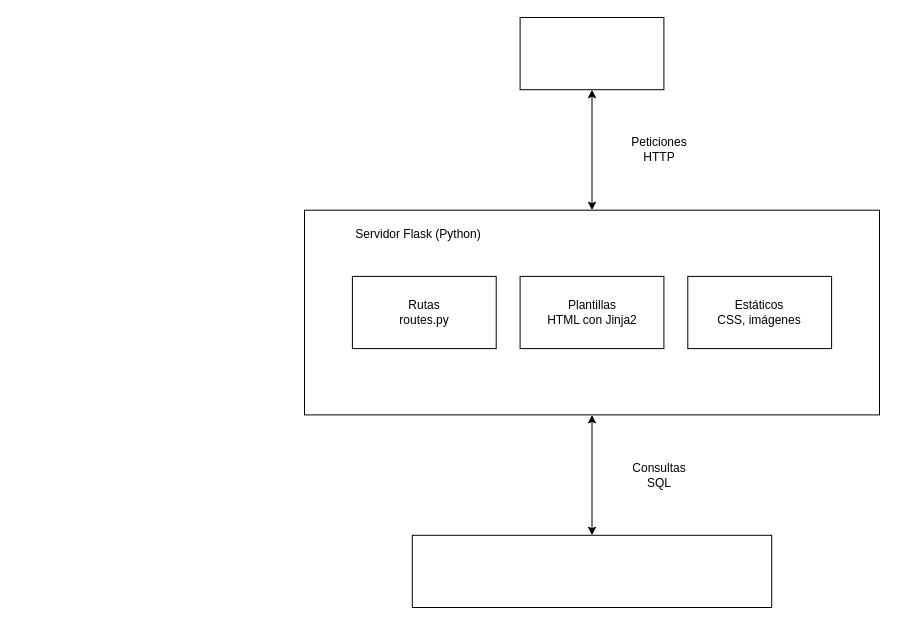
The diagram is 897 pixels wide and 625 high, and some of its shapes have lost their labels. The shapes that lost their labels are listed below. From the top down, each one's centre as x and y in pixels, then its label:
At point 591,53: "Navegador (HTML, CSS, JS)".
At point 591,571: "Base de datos SQLite usuario, curso, lección, progreso".
